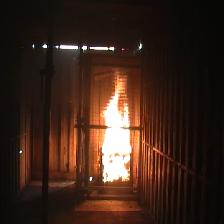fire: (99, 78, 134, 186)
